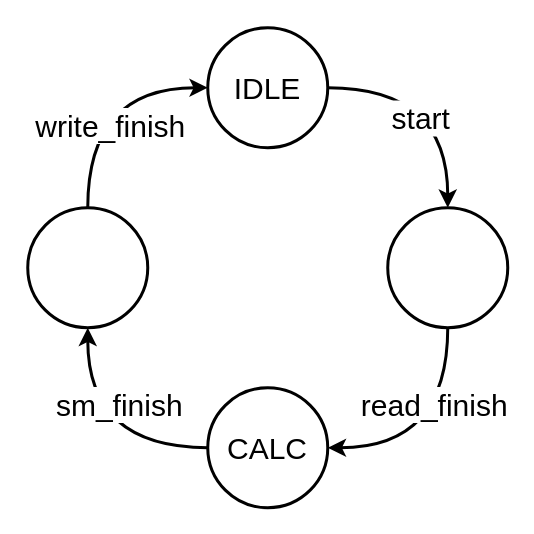
Image size: 534x534. Some labels were removed from this diagram. Here are the shapes that lost their labels. From the top down, the box of each, then its label:
(26, 206, 148, 328): WRITE
(386, 206, 508, 328): READ
